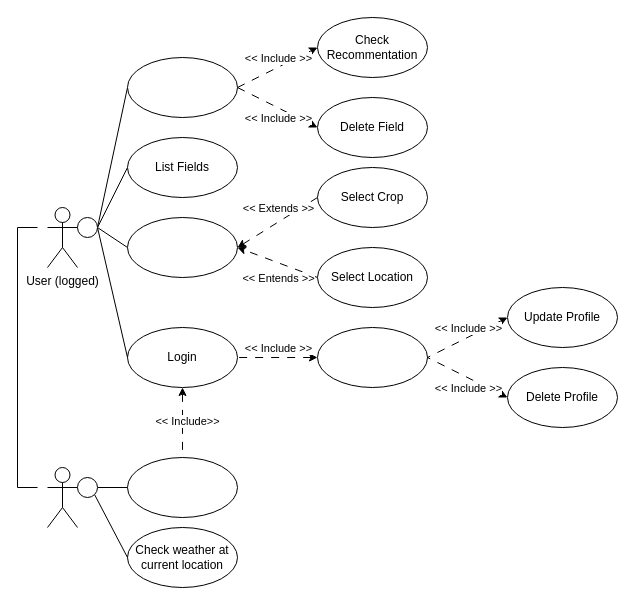
Some shapes in this 635 by 605 pixel diagram are drawn without their labels. The box of each missing label's shape, as (x1, y1, x2, y2) in pixels:
Create Field: (126, 216, 238, 278)
Register: (126, 456, 238, 518)
See Field: (126, 56, 238, 118)
User: (46, 466, 78, 528)
View Profile: (316, 326, 428, 388)
